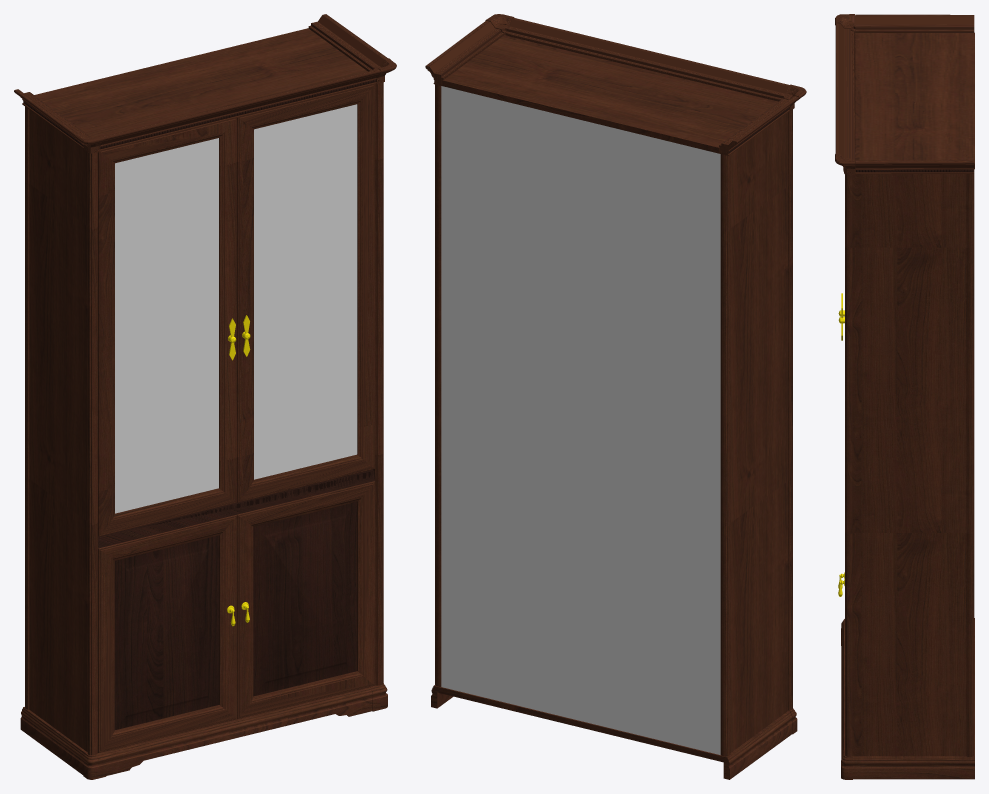
Rendered from forBook.FBX.
The picture shows the model from 3 angles, left to right: view 1: azimuth 30°, elevation 25°; view 2: azimuth 150°, elevation 25°; view 3: azimuth 270°, elevation 25°; orthographic projection. The views are drawn at different scales.
Parts seen in each view (by area): view 1: Loft24, Box65, Dj_Kabinet_Shkaf, Box70, Plane01, Plane17, Box04; view 2: Box05, Dj_Kabinet_Shkaf, Box70, Plane17, Plane01; view 3: Dj_Kabinet_Shkaf, Box70, Plane17, Plane01, Box04.
Part boxes in pixels (<box>): Loft24: <box>98,84,374,752</box>; Box65: <box>115,104,357,513</box>; Dj_Kabinet_Shkaf: <box>25,82,383,755</box>; Box70: <box>34,28,369,752</box>; Plane01: <box>20,683,387,779</box>; Plane17: <box>14,14,396,153</box>; Box04: <box>23,79,375,149</box>; Box05: <box>441,86,720,754</box>; Dj_Kabinet_Shkaf: <box>435,84,792,756</box>; Box70: <box>435,35,777,762</box>; Plane17: <box>425,14,806,155</box>; Plane01: <box>431,685,797,779</box>; Dj_Kabinet_Shkaf: <box>845,174,974,756</box>; Box70: <box>855,32,974,756</box>; Plane17: <box>835,14,974,174</box>; Plane01: <box>841,618,974,779</box>; Box04: <box>856,169,973,172</box>.
Bounding box in the file's own units: 113 × 221 × 44.99.
